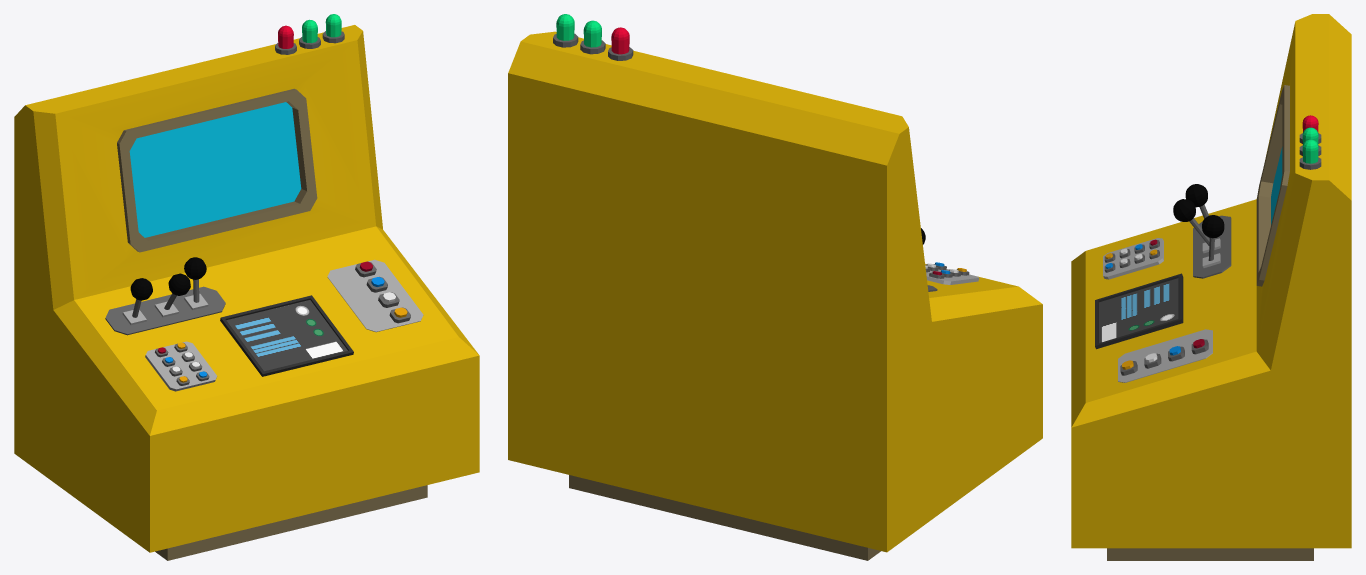
The model's file is Panneau commande.fbx.
The picture shows the model from 3 angles, left to right: view 1: azimuth 30°, elevation 25°; view 2: azimuth 150°, elevation 25°; view 3: azimuth 270°, elevation 25°; orthographic projection. The views are drawn at different scales.
Parts seen in each view (by area): view 1: panneau_pince; view 2: panneau_pince; view 3: panneau_pince.
Part boxes in pixels (<box>): panneau_pince: <box>14,14,479,560</box>; panneau_pince: <box>508,14,1042,560</box>; panneau_pince: <box>1071,14,1351,560</box>.
Size of the model in its own units: 1.4 by 1.67 by 1.
14 materials, 1 textured.
